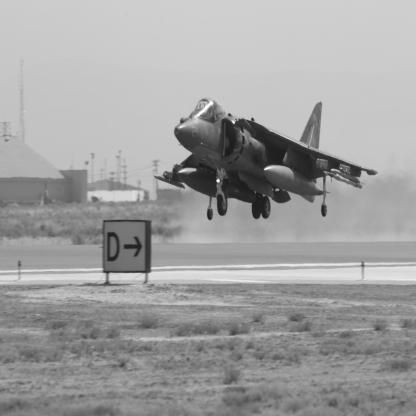AV8B: (155, 98, 379, 221)
